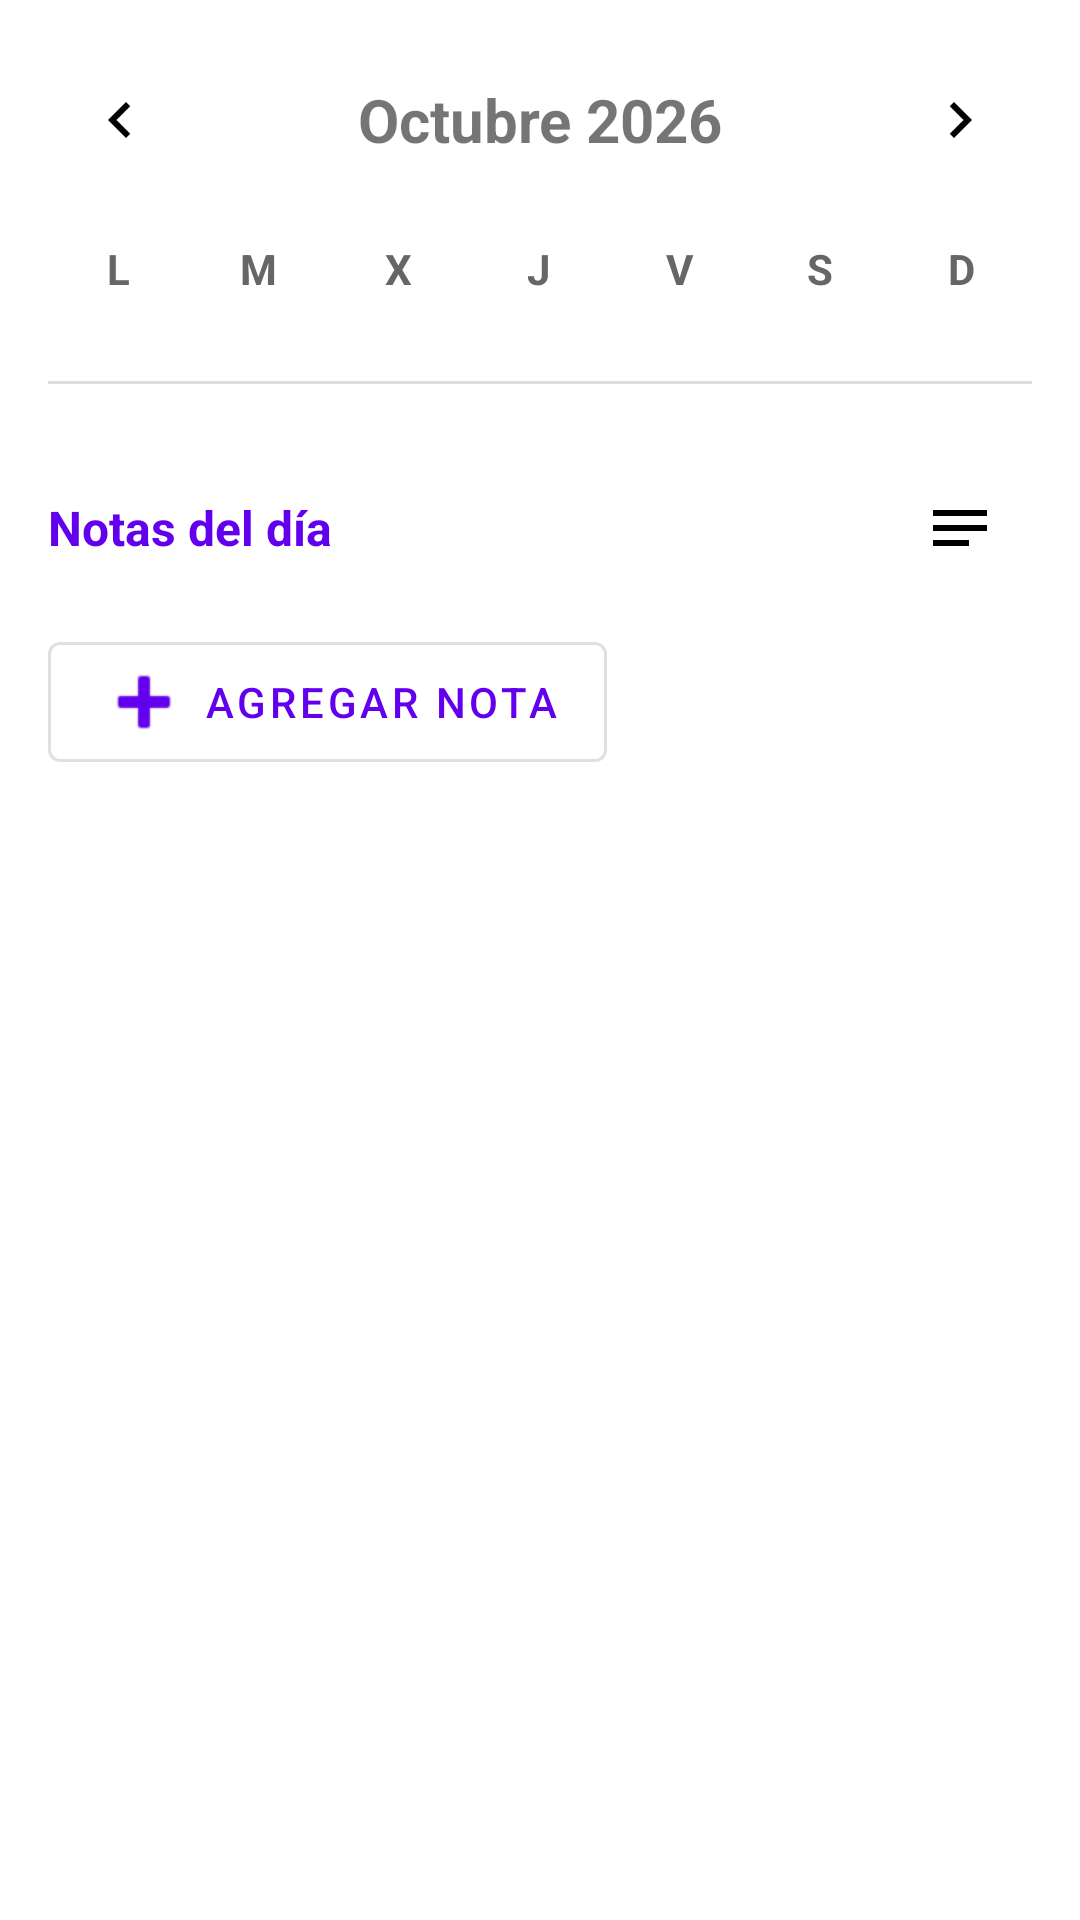

Named icons in this screenshot (1080 x 1920) and their bounding boxes, box=[x1, y1, x2, y2]:
Mes anterior: box=[108, 102, 130, 138]
Mes siguiente: box=[950, 102, 972, 138]
Mostrar/ocultar notas: box=[933, 510, 987, 546]
